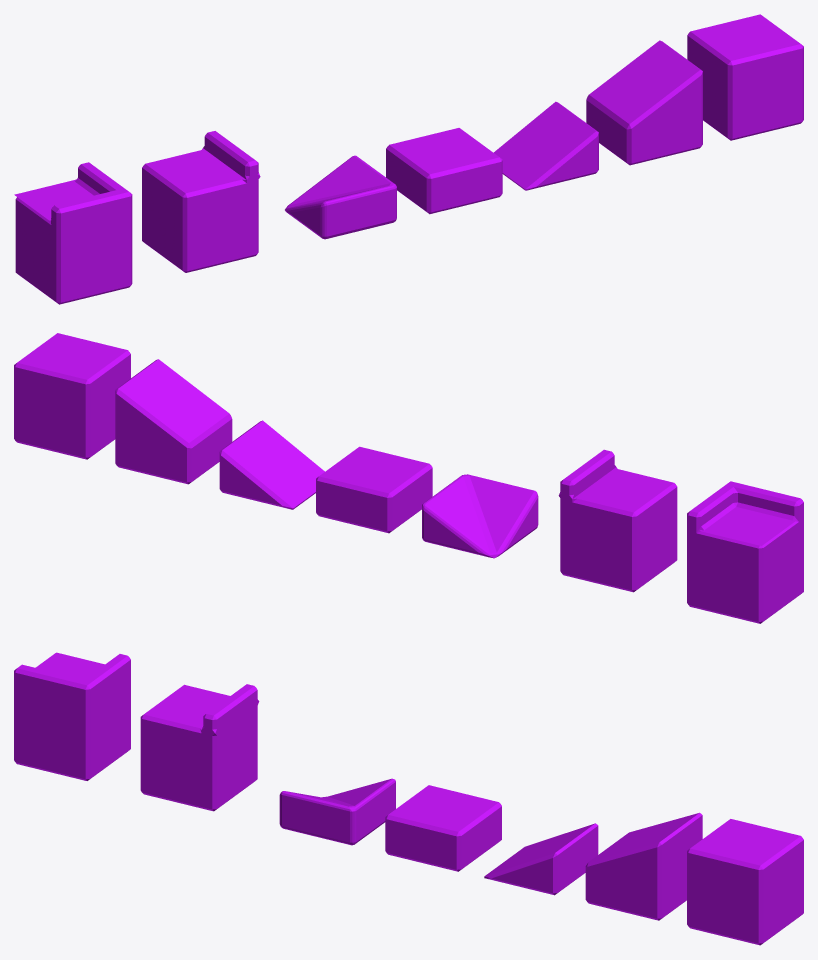
Rendered from world-blocks-v1.glb.
The picture shows the model from 3 angles, top to bottom: view 1: azimuth 30°, elevation 25°; view 2: azimuth 150°, elevation 25°; view 3: azimuth 330°, elevation 25°; orthographic projection.
Visible parts, largest first — view 1: BlockWallCorner, BlockWall, Block, RampTop, BlockShort, RampBottom, RampLowerCorner; view 2: BlockWallCorner, BlockWall, Block, RampTop, BlockShort, RampLowerCorner, RampBottom; view 3: BlockWallCorner, BlockWall, Block, RampTop, BlockShort, RampLowerCorner, RampBottom.
Boxes of the visible parts, x1=… form: BlockWallCorner: x1=14, y1=162, x2=132, y2=304; BlockWall: x1=142, y1=131, x2=260, y2=272; Block: x1=687, y1=14, x2=803, y2=140; RampTop: x1=586, y1=40, x2=702, y2=165; BlockShort: x1=386, y1=128, x2=502, y2=214; RampBottom: x1=493, y1=101, x2=598, y2=190; RampLowerCorner: x1=285, y1=155, x2=396, y2=239; BlockWallCorner: x1=687, y1=481, x2=803, y2=623; BlockWall: x1=558, y1=449, x2=677, y2=592; Block: x1=14, y1=333, x2=130, y2=459; RampTop: x1=115, y1=359, x2=232, y2=484; BlockShort: x1=316, y1=446, x2=432, y2=533; RampLowerCorner: x1=422, y1=474, x2=538, y2=558; RampBottom: x1=219, y1=420, x2=324, y2=509; BlockWallCorner: x1=14, y1=652, x2=130, y2=780; BlockWall: x1=140, y1=684, x2=259, y2=811; Block: x1=687, y1=819, x2=803, y2=945; RampTop: x1=585, y1=812, x2=702, y2=920; BlockShort: x1=385, y1=785, x2=501, y2=871; RampLowerCorner: x1=279, y1=778, x2=395, y2=845; RampBottom: x1=484, y1=823, x2=598, y2=895.
Size of what is drawn, in the model's own units: 19.63 by 2.42 by 2.
